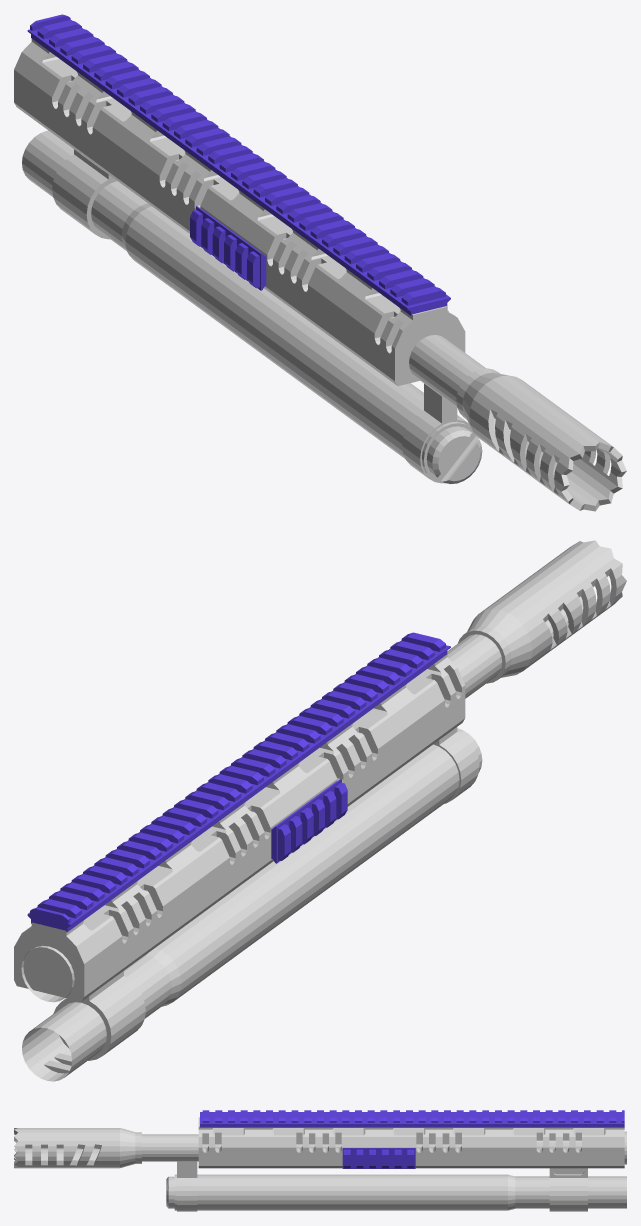
The model's file is SM_LPAMG_MAK12_Barrel_Default.fbx.
3 renders of one model, top to bottom at view 1: azimuth 30°, elevation 25°; view 2: azimuth 150°, elevation 25°; view 3: azimuth 270°, elevation 25°, orthographic. The views are drawn at different scales.
Parts seen in each view (by area): view 1: SM_LPAMG_MAK12_Barrel_Default; view 2: SM_LPAMG_MAK12_Barrel_Default; view 3: SM_LPAMG_MAK12_Barrel_Default.
Boxes of the visible parts, <box> form: SM_LPAMG_MAK12_Barrel_Default: <box>14,14,626,511</box>; SM_LPAMG_MAK12_Barrel_Default: <box>14,540,626,1081</box>; SM_LPAMG_MAK12_Barrel_Default: <box>14,1110,626,1211</box>.
Size of the model in its own units: 4.46 by 7.73 by 44.77.
